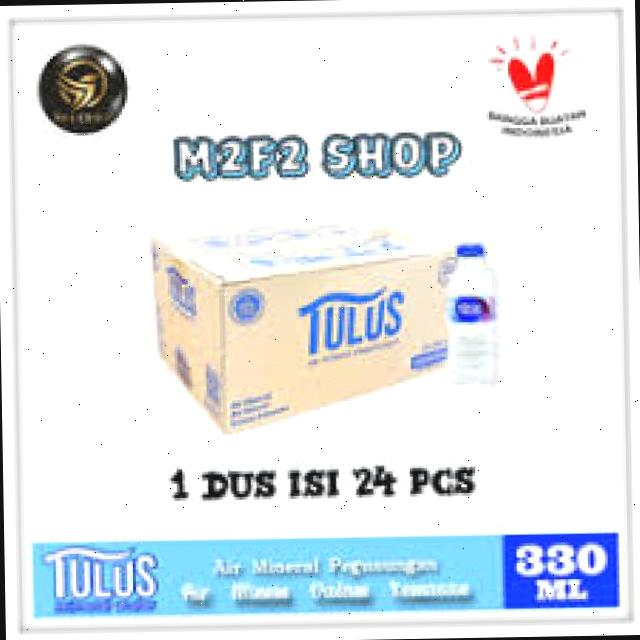bottle: (431, 239, 522, 388)
cap: (453, 237, 488, 258)
label: (443, 296, 497, 322)
